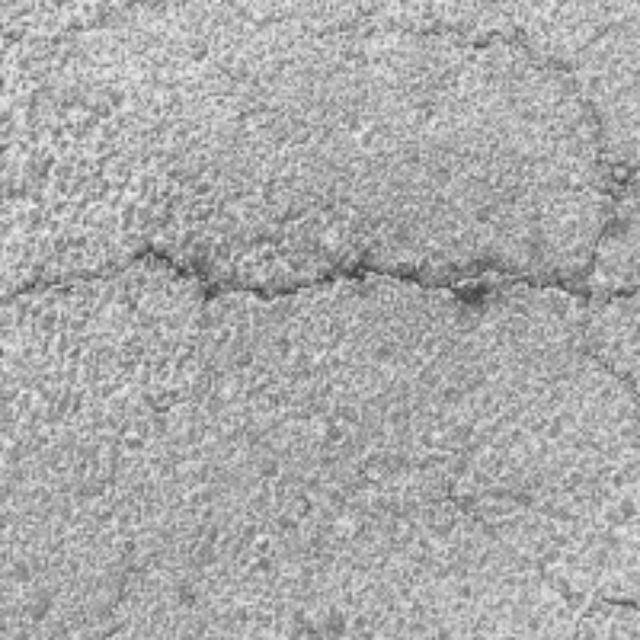Crack: (33, 131, 640, 422)
